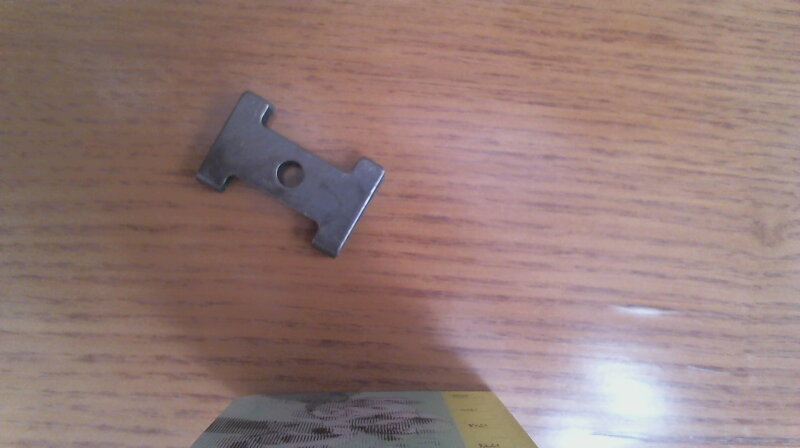O002: (190, 86, 392, 261)
